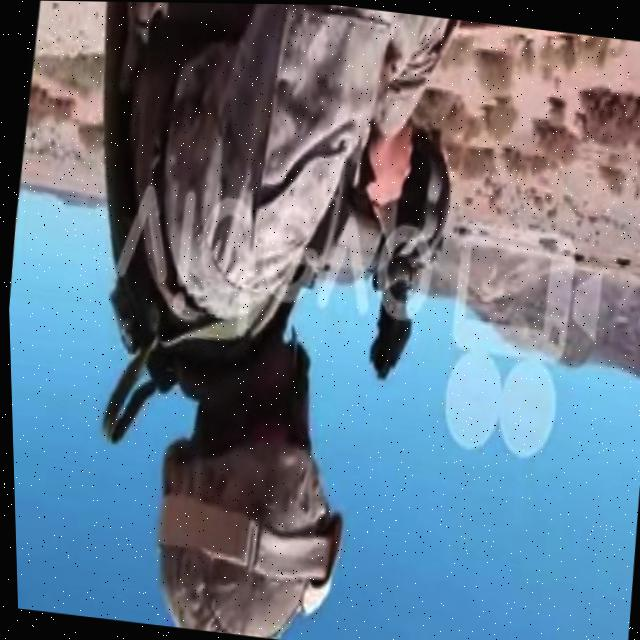rocket: (289, 115, 471, 386)
